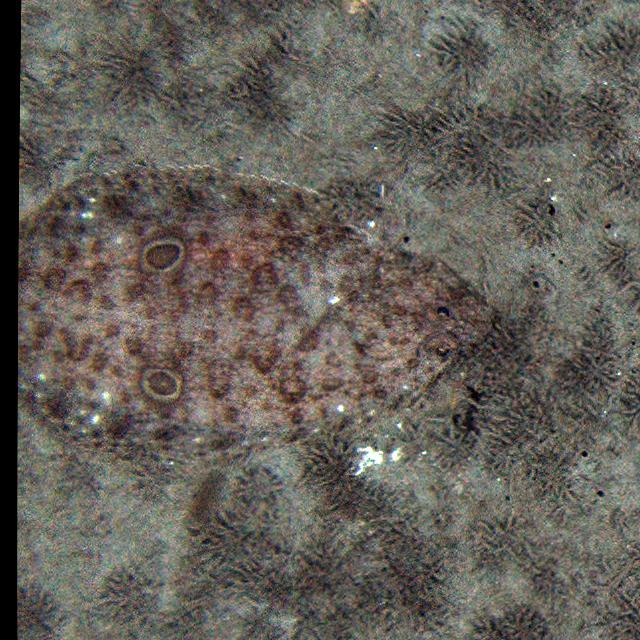flatfish: (16, 167, 498, 464)
